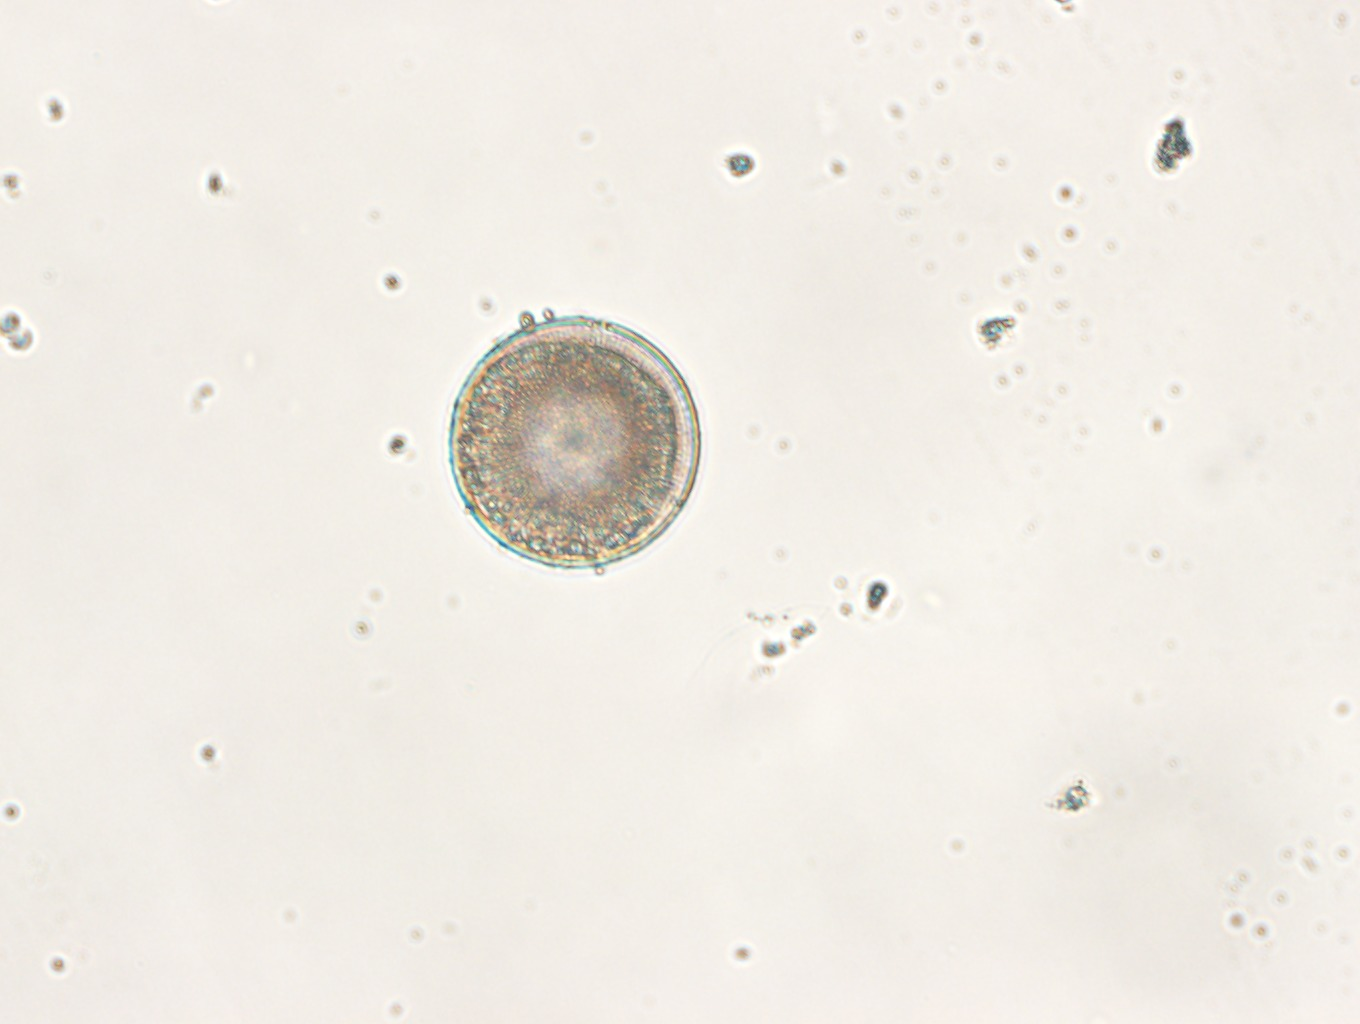coscinodiscus: (446, 314, 700, 571)
